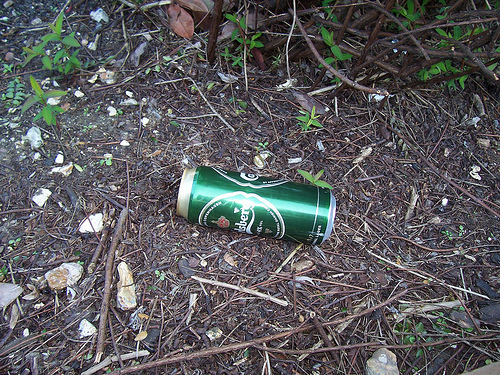litter: (177, 167, 337, 243)
